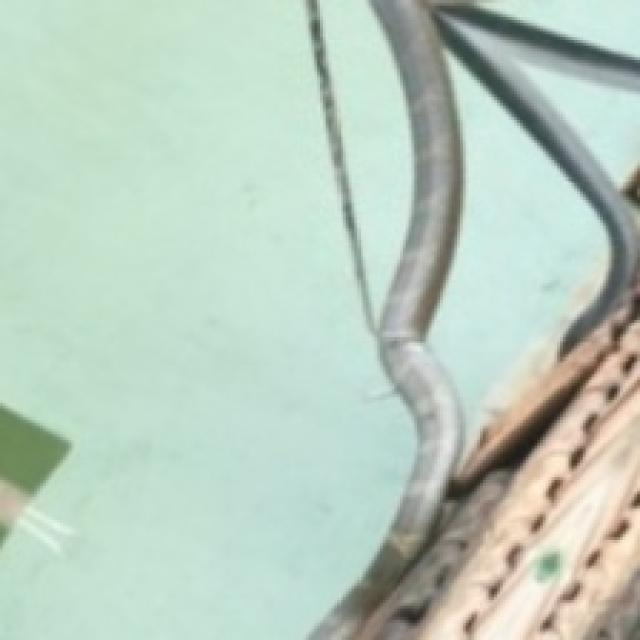king cobra: (311, 0, 637, 637), (423, 43, 611, 469)
